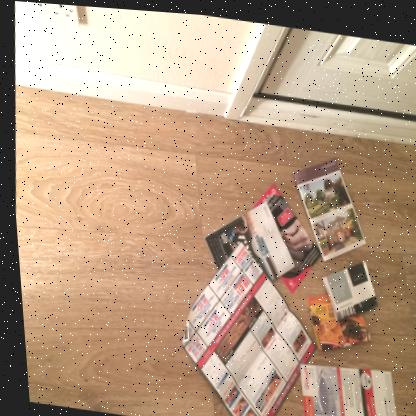Paper: (175, 236, 311, 416), (245, 178, 317, 289), (290, 152, 362, 256), (200, 196, 290, 277), (294, 359, 390, 416), (302, 289, 365, 346), (317, 255, 373, 315)
